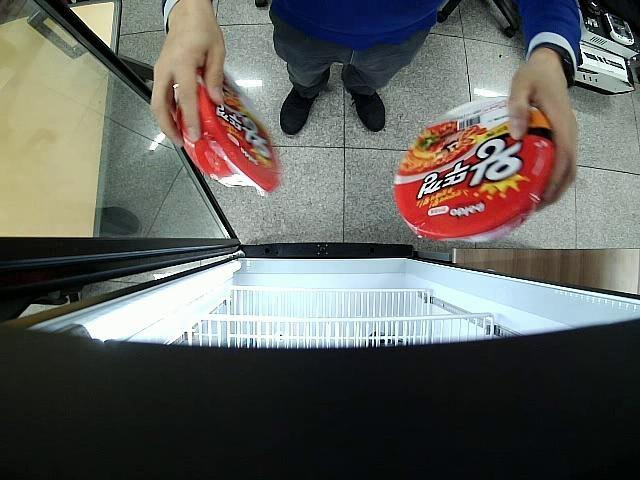10_wangTtukkeong: (394, 96, 556, 244), (175, 68, 280, 196)
